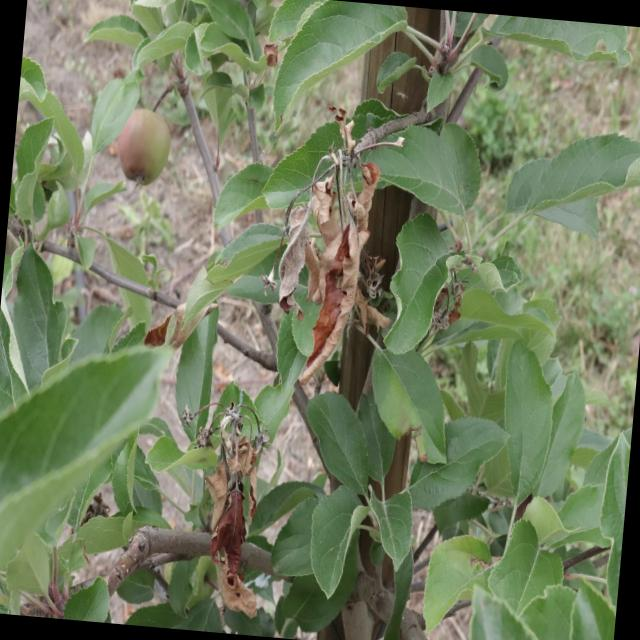-FireBlight-: (278, 138, 384, 368), (172, 411, 282, 615)
